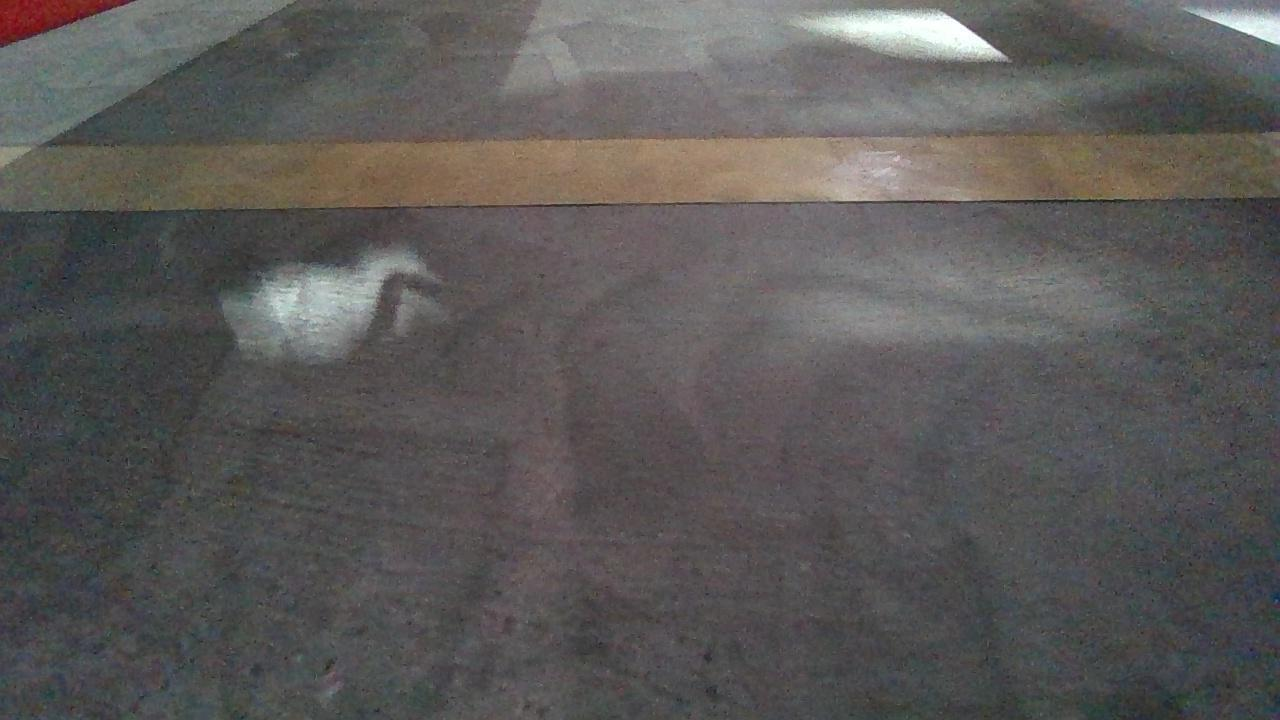yellow_line: (0, 133, 1280, 211)
